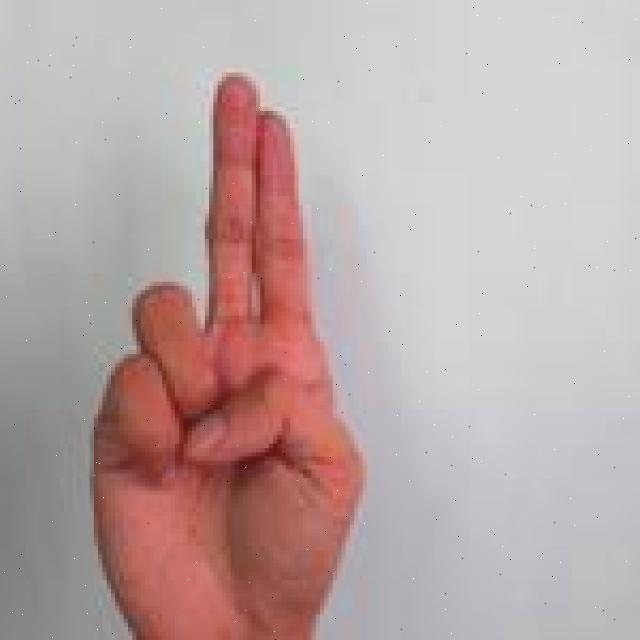U: (82, 68, 370, 640)
